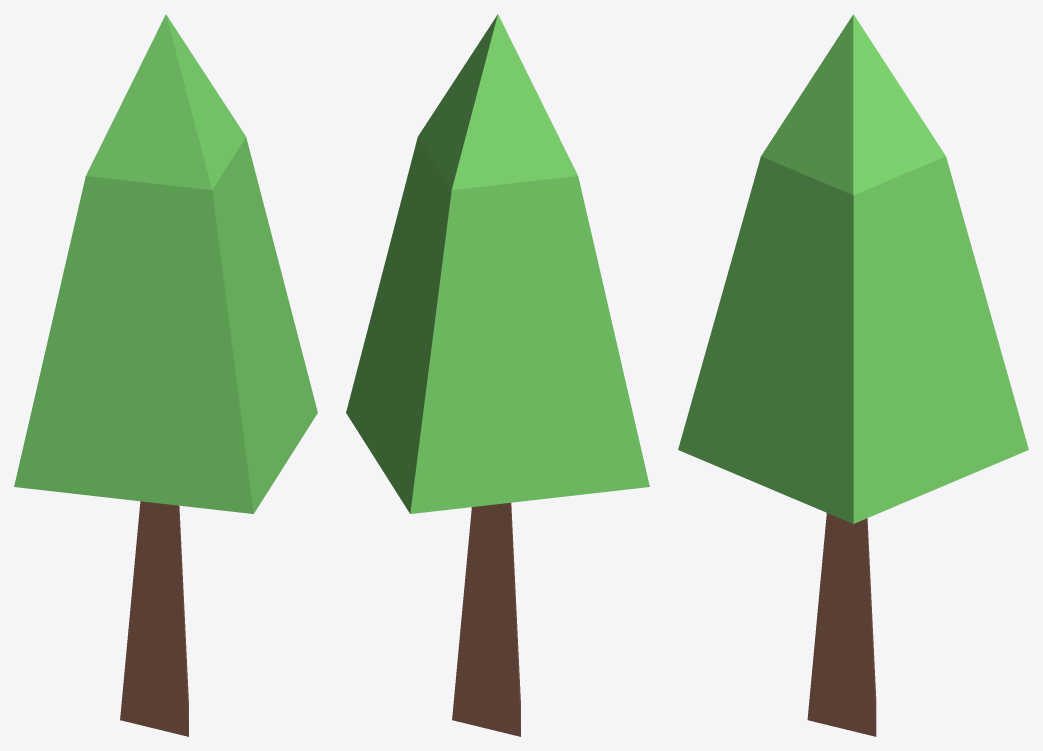
The model's file is AspenObj.fbx.
The picture shows the model from 3 angles, left to right: view 1: azimuth 30°, elevation 25°; view 2: azimuth 150°, elevation 25°; view 3: azimuth 270°, elevation 25°; orthographic projection.
Visible parts, largest first — view 1: Aspen; view 2: Aspen; view 3: Aspen.
Part boxes in pixels (x1,y1,x2,y2): Aspen: (14,14,317,736); Aspen: (346,14,649,736); Aspen: (678,14,1028,736).
Bounding box in the file's own units: 666 × 1479 × 666.
